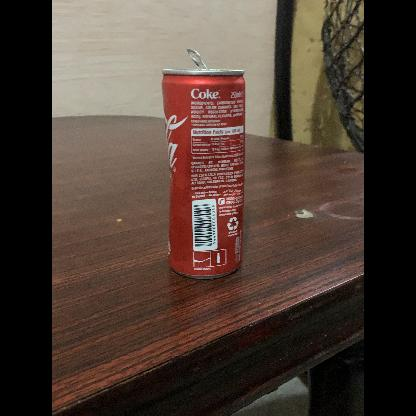Dent_Can: (168, 141, 208, 225), (213, 175, 248, 197)
Lid_Open: (180, 40, 226, 80)
Tin_Can: (154, 43, 254, 284)
